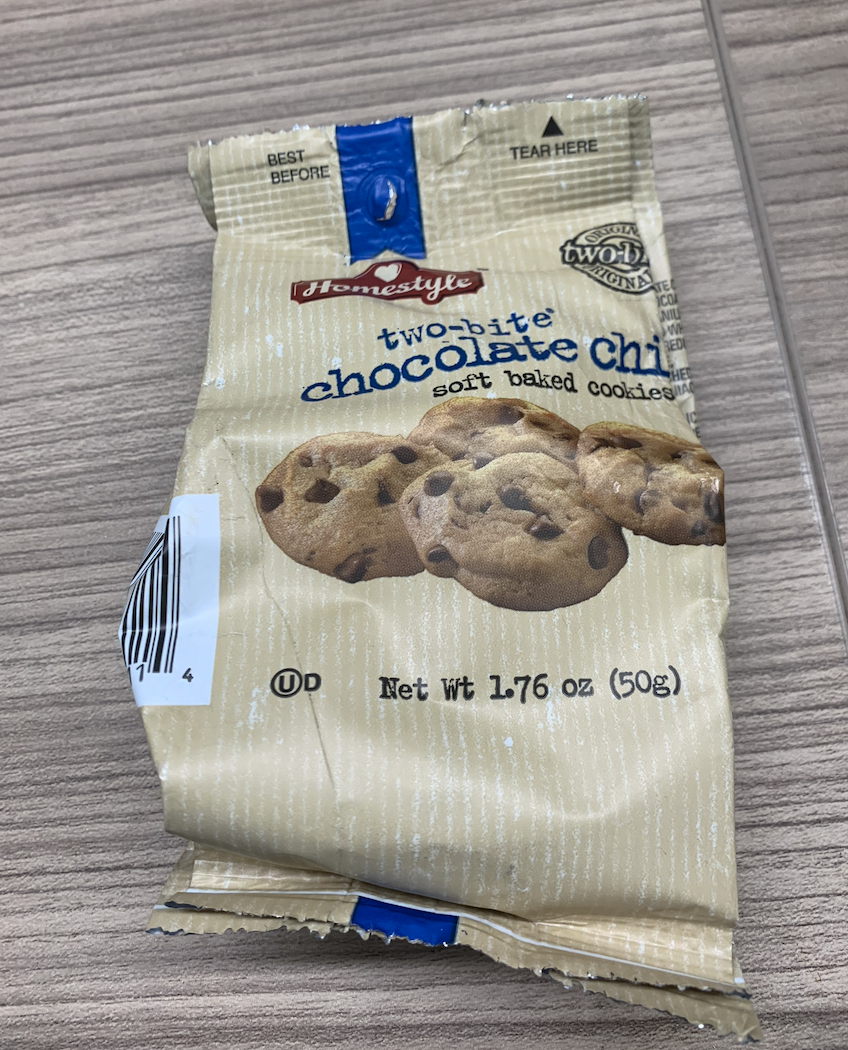cookies_50g: (233, 168, 690, 893)
